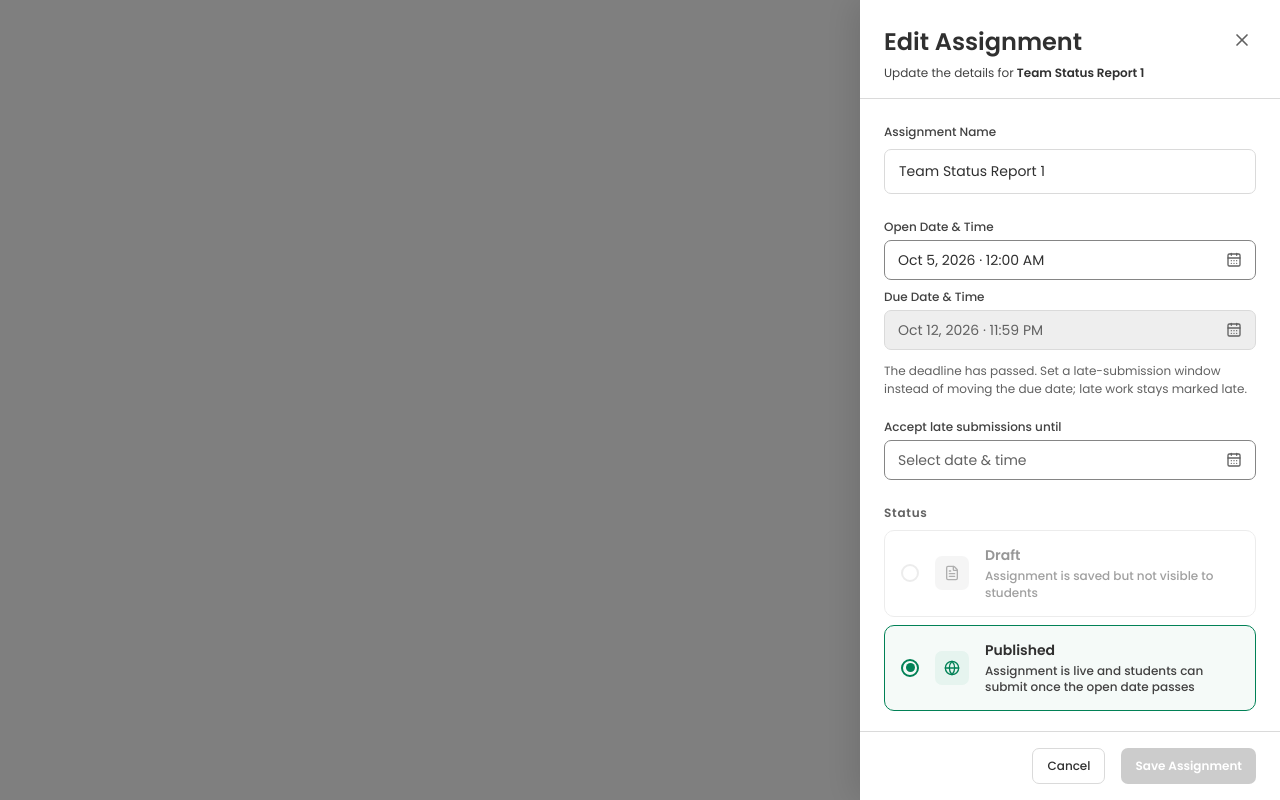
Test case: AssignmentEditorModal — after the deadline › refuses an incomplete late-submission date & time
Clearing the time box after picking the day leaves "2026-10-22 " in the field.
Click the button named "Accept late submissions until" at [962, 460], box x1=884 y1=440 x2=1256 y2=480
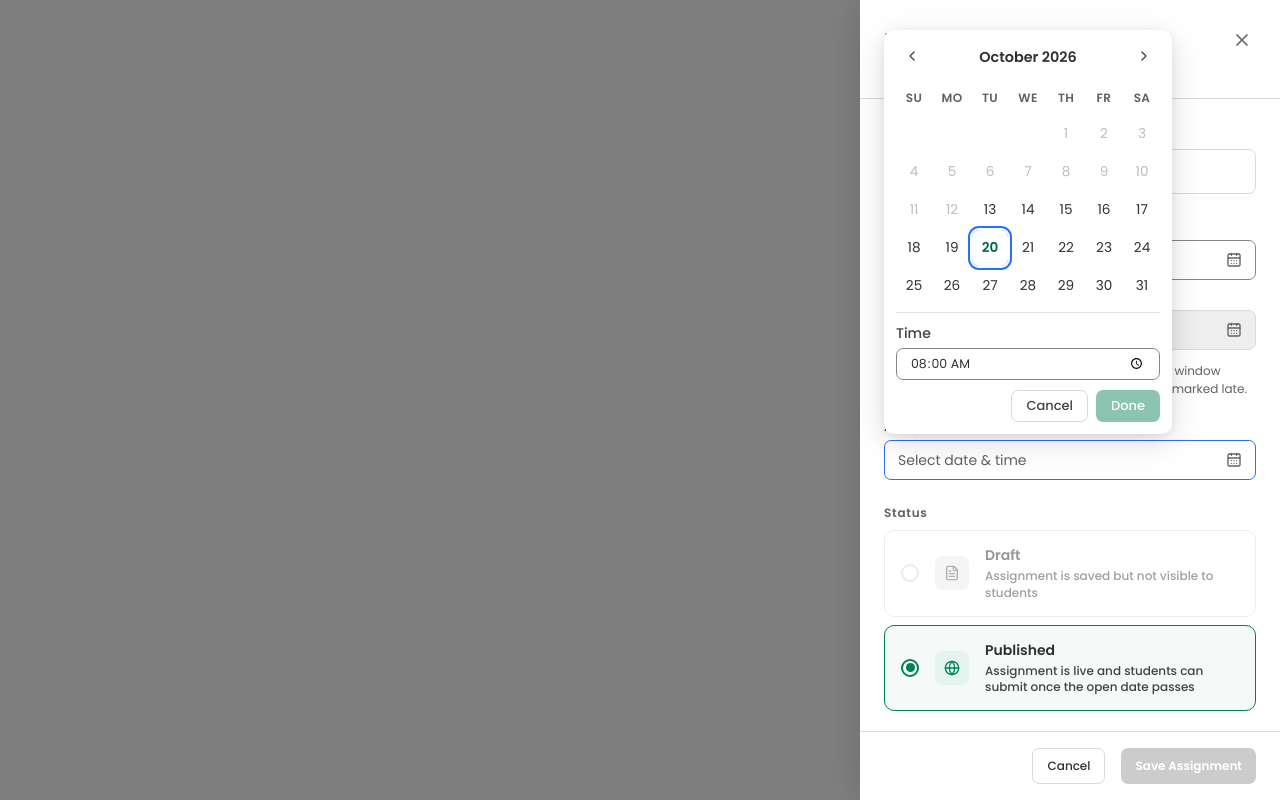
Click the button named "October 22nd, 2026" at [1066, 248], box x1=1048 y1=230 x2=1084 y2=266
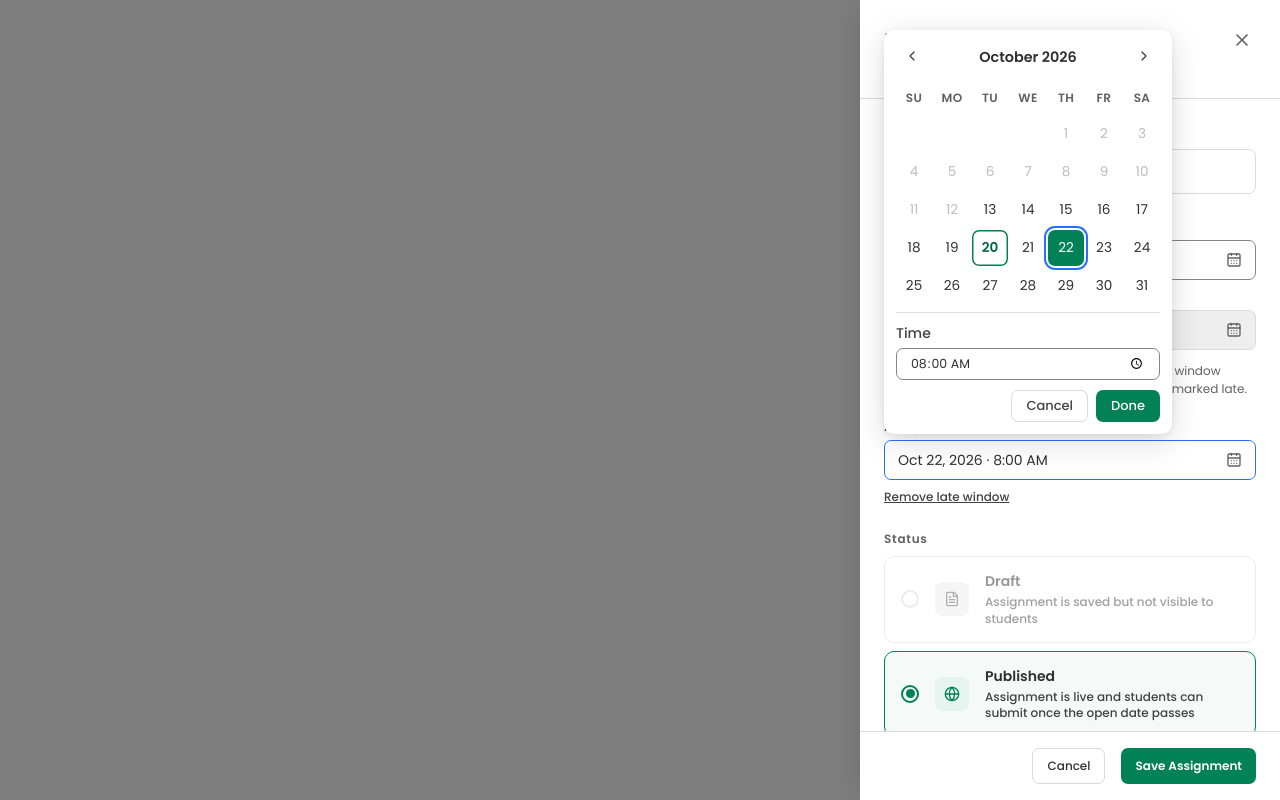
Clear the time field showing "08:00" at [1028, 364], box x1=896 y1=348 x2=1160 y2=380
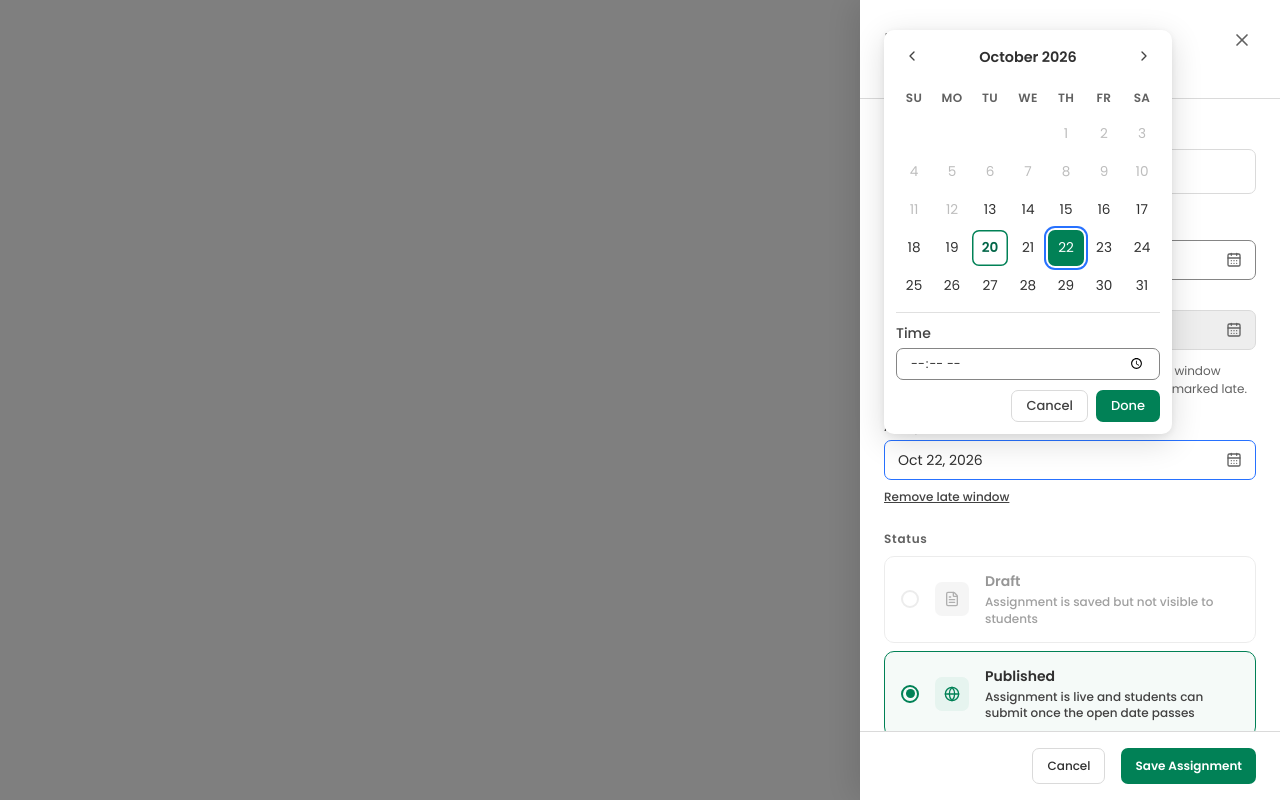
Click the button "Save Assignment" at [1189, 766], box x1=1122 y1=748 x2=1256 y2=784
(page scrolled)
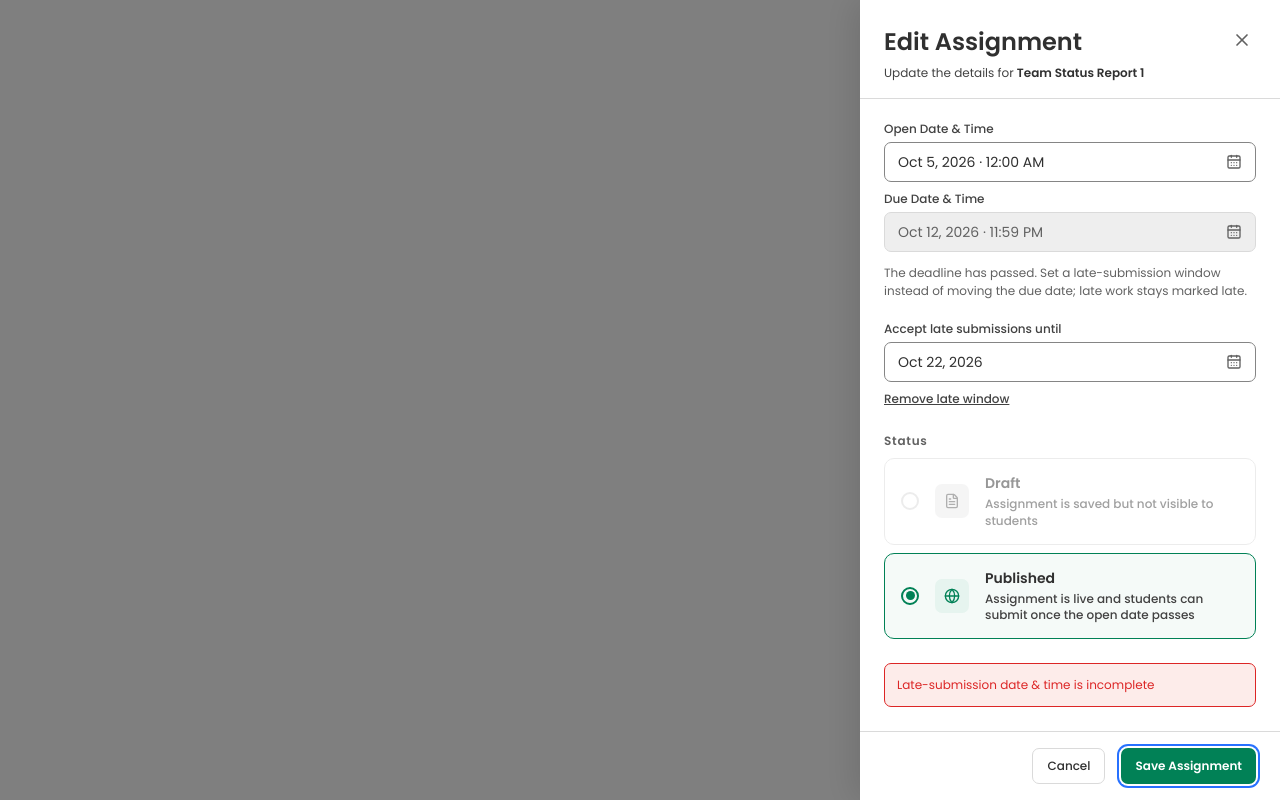
Result: the text "Late-submission date & time is incomplete" is shown at x1=884 y1=663 x2=1256 y2=707
